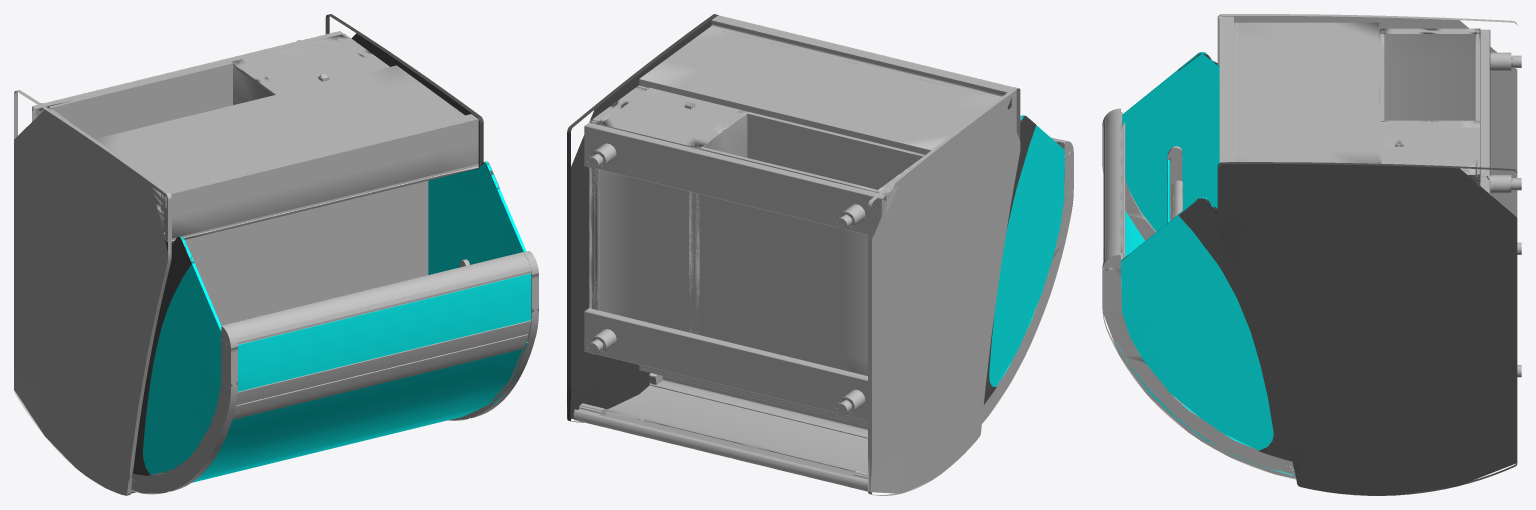
File: Unity HD Render Pipeline (Metallic Standard).fbx
The picture shows the model from 3 angles, left to right: view 1: azimuth 30°, elevation 25°; view 2: azimuth 150°, elevation 25°; view 3: azimuth 270°, elevation 25°; orthographic projection. The views are drawn at different scales.
Visible parts, largest first — view 1: defaultobject (×3); view 2: defaultobject (×3); view 3: defaultobject (×3).
Part boxes in pixels (<box>): defaultobject (×3): <box>14,14,538,495</box>; defaultobject (×3): <box>567,14,1073,495</box>; defaultobject (×3): <box>1102,14,1521,495</box>.
Size of the model in its own units: 114 by 118 by 134.
